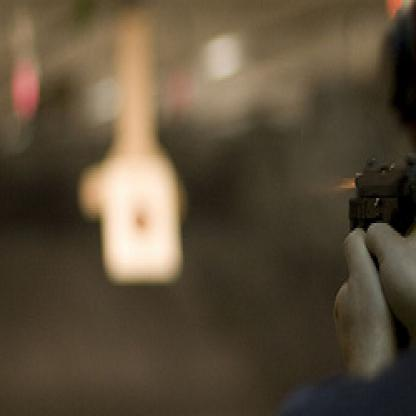gun: (333, 145, 414, 251)
